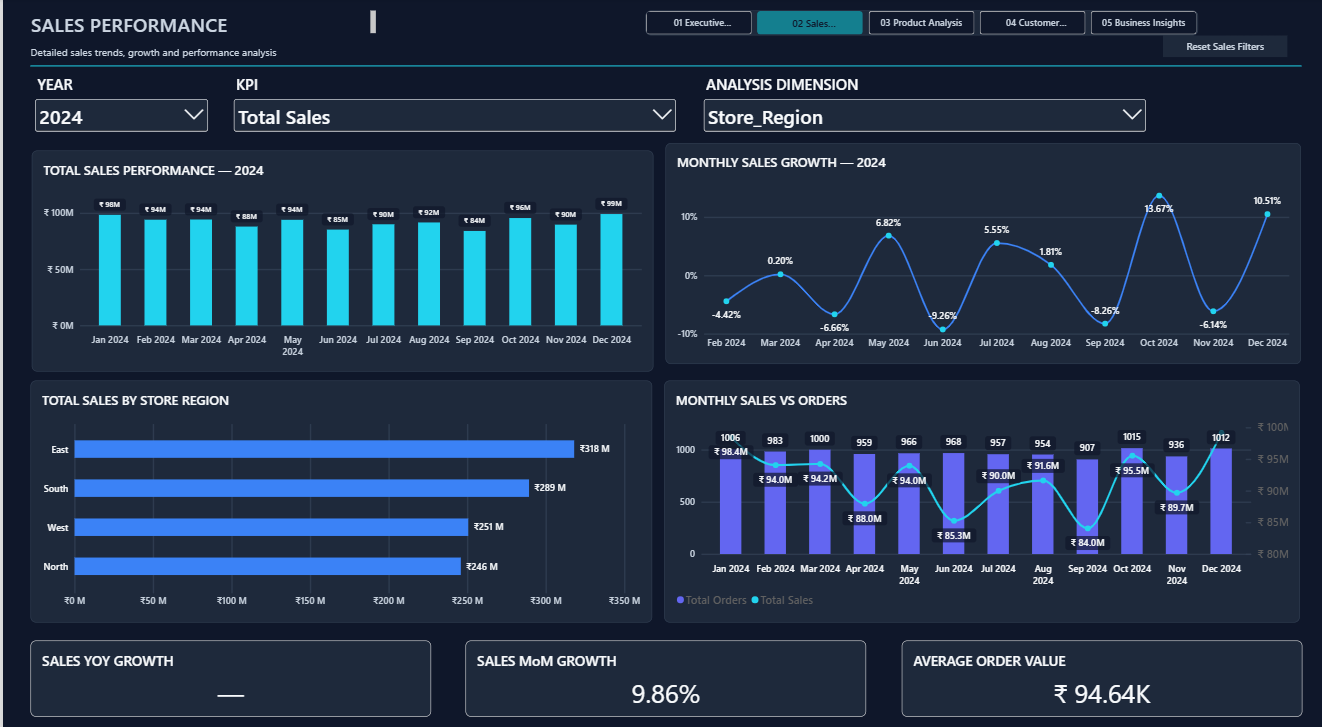

This screenshot's page, from the dashboard's own definition file:
{"tool":"powerbi","page":{"name":"02 Sales Performance","canvas":[1920,1080],"ordinal":2},"visuals":[{"type":"textbox","box":[40,18.1,500,35],"z":0},{"type":"textbox","box":[40,55,700,40],"z":1000},{"type":"shape","box":[40,92,1840,12],"z":2000},{"type":"slicer","fields":{"Values":["DimDate.Year"]},"box":[40.7,110.5,260,85],"z":3000},{"type":"slicer","fields":{"Values":["KPI Selector.KPI Selector"]},"box":[330,110,650,85],"z":4000},{"type":"slicer","fields":{"Values":["Analysis Dimension.Analysis Dimension"]},"box":[1010,110,650,85],"z":5000},{"type":"lineClusteredColumnComboChart","fields":{"Category":["DimDate.Month Year"],"Y":["_Measures.Total Sales"]},"box":[41.1,220.7,900,320],"z":6000},{"type":"lineChart","fields":{"Category":["DimDate.Month Year"],"Y":["_Measures.MoM Growth %"]},"box":[960,210,920,320],"z":7000},{"type":"clusteredBarChart","fields":{"Category":["DimStore.Store_Region"],"Y":["_Measures.Selected KPI Value"]},"box":[40,553,900,350],"z":8000},{"type":"lineClusteredColumnComboChart","title":"MONTHLY SALES VS ORDERS","fields":{"Category":["DimDate.Month Year"],"Y":["_Measures.Total Orders"],"Y2":["_Measures.Total Sales"]},"box":[957.3,553.8,920,350],"z":9000},{"type":"card","title":"SALES YOY GROWTH","fields":{"Values":["_Measures.Total Sales YoY Indicator"]},"box":[40,930,580,110],"z":10000},{"type":"card","title":"SALES MoM GROWTH","fields":{"Values":["_Measures.MoM Growth %"]},"box":[670,930,580,110],"z":11000},{"type":"card","title":"AVERAGE ORDER VALUE","fields":{"Values":["_Measures.Average Order Value"]},"box":[1300.6,930,580,110],"z":12000},{"type":"actionButton","box":[1680,55,180,31],"z":13000},{"type":"pageNavigator","box":[930,18.1,800,36],"z":14000}]}

Visuals, with their boxes in screenshot pixels (x1, y1, x2, y2), scaled from the page's 1920x1080 canvas onto the 1322x727 screenshot:
textbox: 28 12 372 36
textbox: 28 37 510 64
shape: 28 62 1294 70
slicer - DimDate.Year: 28 74 207 132
slicer - KPI Selector.KPI Selector: 227 74 675 131
slicer - Analysis Dimension.Analysis Dimension: 695 74 1143 131
lineClusteredColumnComboChart - DimDate.Month Year x _Measures.Total Sales: 28 149 648 364
lineChart - DimDate.Month Year x _Measures.MoM Growth %: 661 141 1294 357
clusteredBarChart - DimStore.Store_Region x _Measures.Selected KPI Value: 28 372 647 608
"MONTHLY SALES VS ORDERS" lineClusteredColumnComboChart: 659 373 1293 608
"SALES YOY GROWTH" card: 28 626 427 700
"SALES MoM GROWTH" card: 461 626 861 700
"AVERAGE ORDER VALUE" card: 896 626 1295 700
actionButton: 1157 37 1281 58
pageNavigator: 640 12 1191 36
